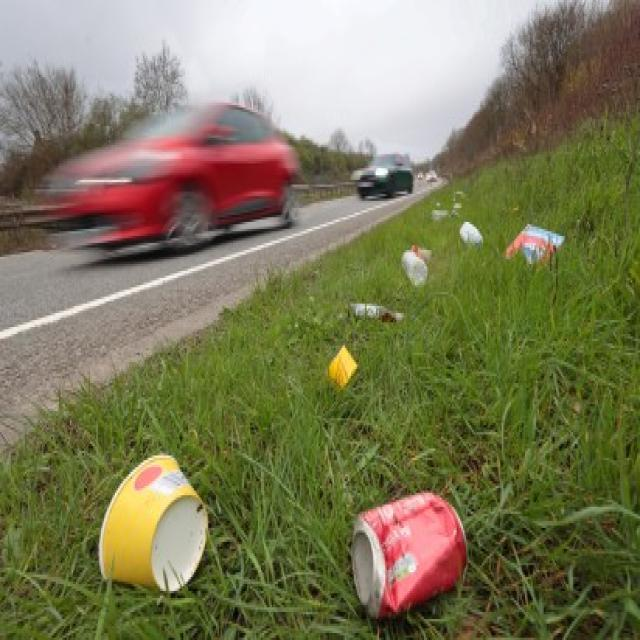Can-Metal: (344, 485, 474, 625)
Cup: (92, 445, 218, 602)
Paper: (324, 335, 361, 396)
Plastic: (502, 210, 564, 283), (344, 288, 406, 329), (400, 240, 430, 292), (457, 218, 485, 253)
